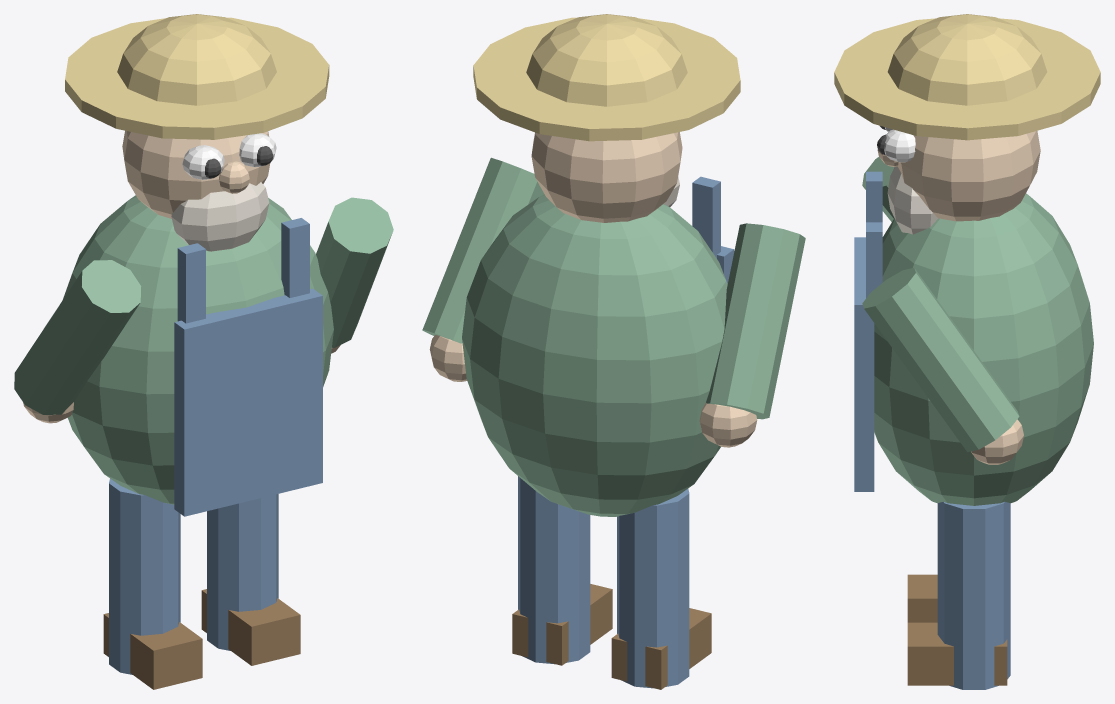
Rendered from farmer.glb.
The picture shows the model from 3 angles, left to right: view 1: azimuth 30°, elevation 25°; view 2: azimuth 150°, elevation 25°; view 3: azimuth 270°, elevation 25°; orthographic projection.
Parts seen in each view (by area): view 1: Farmer_Apron, Farmer_Body, Farmer_HatBrim, Farmer_HatTop, Farmer_Leg_L, Farmer_Arm_L, Farmer_Leg_R, Farmer_Arm_R, Farmer_Head, Farmer_Beard, Farmer_Boot_L, Farmer_Boot_R (+5 smaller); view 2: Farmer_Body, Farmer_HatBrim, Farmer_Arm_L, Farmer_Leg_L, Farmer_HatTop, Farmer_Head, Farmer_Leg_R, Farmer_Arm_R, Farmer_Boot_L, Farmer_Boot_R, Farmer_Hand_L, Farmer_ApronStrap_L (+1 smaller); view 3: Farmer_Body, Farmer_HatBrim, Farmer_Arm_R, Farmer_Leg_R, Farmer_HatTop, Farmer_Head, Farmer_Apron, Farmer_Boot_R, Farmer_Beard, Farmer_Boot_L, Farmer_Hand_R, Farmer_ApronStrap_R (+3 smaller).
Part boxes in pixels (x1=…): Farmer_Apron: x1=174, y1=288, x2=322, y2=516; Farmer_Body: x1=63, y1=195, x2=333, y2=504; Farmer_HatBrim: x1=65, y1=17, x2=329, y2=139; Farmer_HatTop: x1=117, y1=14, x2=276, y2=105; Farmer_Leg_L: x1=109, y1=478, x2=180, y2=674; Farmer_Arm_L: x1=14, y1=260, x2=141, y2=414; Farmer_Leg_R: x1=207, y1=494, x2=278, y2=650; Farmer_Arm_R: x1=316, y1=197, x2=393, y2=347; Farmer_Head: x1=122, y1=130, x2=270, y2=218; Farmer_Beard: x1=171, y1=182, x2=269, y2=251; Farmer_Boot_L: x1=103, y1=613, x2=202, y2=689; Farmer_Boot_R: x1=201, y1=589, x2=300, y2=665; Farmer_Body: x1=462, y1=194, x2=727, y2=516; Farmer_HatBrim: x1=473, y1=17, x2=740, y2=141; Farmer_Arm_L: x1=706, y1=223, x2=805, y2=419; Farmer_Leg_L: x1=617, y1=489, x2=689, y2=688; Farmer_HatTop: x1=526, y1=14, x2=687, y2=106; Farmer_Head: x1=531, y1=132, x2=682, y2=222; Farmer_Leg_R: x1=518, y1=476, x2=590, y2=664; Farmer_Arm_R: x1=422, y1=157, x2=544, y2=343; Farmer_Boot_L: x1=611, y1=608, x2=711, y2=689; Farmer_Boot_R: x1=512, y1=584, x2=612, y2=665; Farmer_Hand_L: x1=699, y1=403, x2=757, y2=447; Farmer_ApronStrap_L: x1=692, y1=176, x2=720, y2=258; Farmer_Body: x1=874, y1=193, x2=1093, y2=505; Farmer_HatBrim: x1=834, y1=18, x2=1100, y2=140; Farmer_Arm_R: x1=862, y1=268, x2=1019, y2=452; Farmer_Leg_R: x1=937, y1=501, x2=1010, y2=689; Farmer_HatTop: x1=887, y1=14, x2=1047, y2=105; Farmer_Head: x1=898, y1=131, x2=1040, y2=221; Farmer_Apron: x1=854, y1=237, x2=874, y2=491; Farmer_Boot_R: x1=907, y1=622, x2=1007, y2=685; Farmer_Beard: x1=887, y1=166, x2=937, y2=234; Farmer_Boot_L: x1=907, y1=574, x2=937, y2=622; Farmer_Hand_R: x1=971, y1=419, x2=1023, y2=464; Farmer_ApronStrap_R: x1=866, y1=222, x2=882, y2=297.
Bounding box in the file's own units: 1.17 × 2.08 × 0.8.
